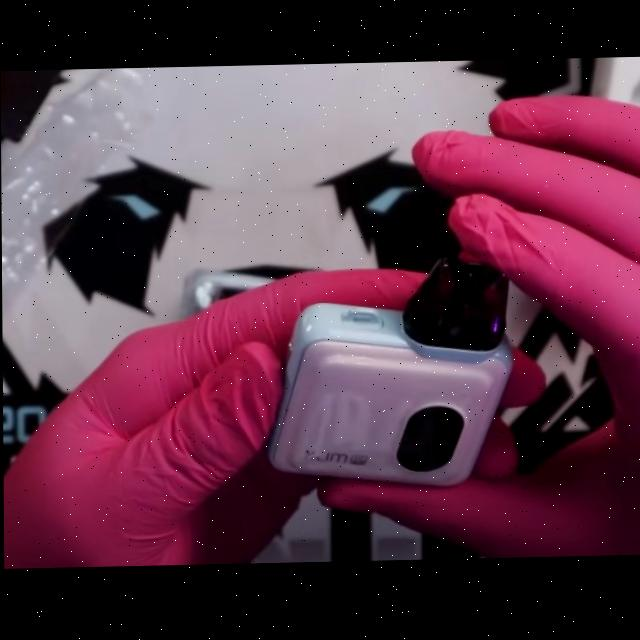vape: (262, 257, 514, 494)
